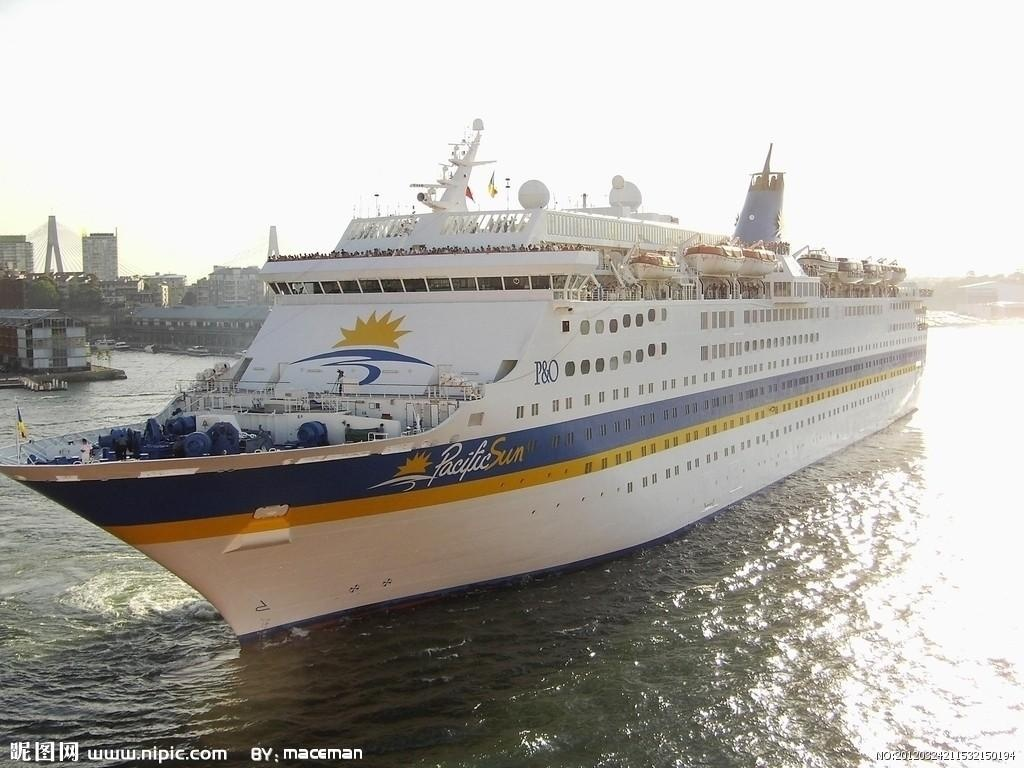youlun: (8, 108, 934, 642)
